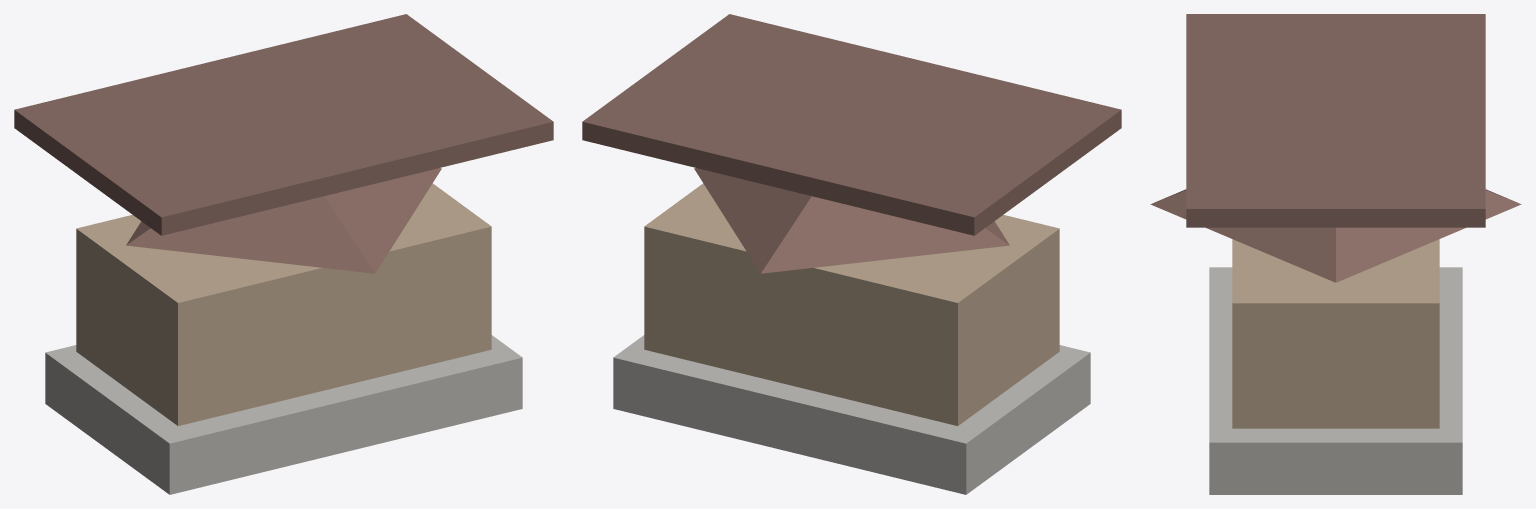
3 views of the same model, side by side, from view 1: azimuth 30°, elevation 25°; view 2: azimuth 150°, elevation 25°; view 3: azimuth 270°, elevation 25° (orthographic).
Parts seen in each view (by area): view 1: part2, part1, part0, part3; view 2: part2, part1, part0, part3; view 3: part2, part1, part0, part3.
Boxes of the visible parts, x1=… form: part2: x1=14, y1=14, x2=553, y2=235; part1: x1=76, y1=183, x2=491, y2=425; part0: x1=45, y1=335, x2=522, y2=494; part3: x1=126, y1=168, x2=441, y2=273; part2: x1=582, y1=14, x2=1121, y2=235; part1: x1=644, y1=183, x2=1059, y2=425; part0: x1=613, y1=335, x2=1090, y2=494; part3: x1=694, y1=168, x2=1009, y2=273; part2: x1=1186, y1=14, x2=1485, y2=227; part1: x1=1232, y1=239, x2=1439, y2=428; part0: x1=1209, y1=267, x2=1462, y2=494; part3: x1=1150, y1=189, x2=1521, y2=282.
Size of the model in its own units: 4 by 2.83 by 3.22.
